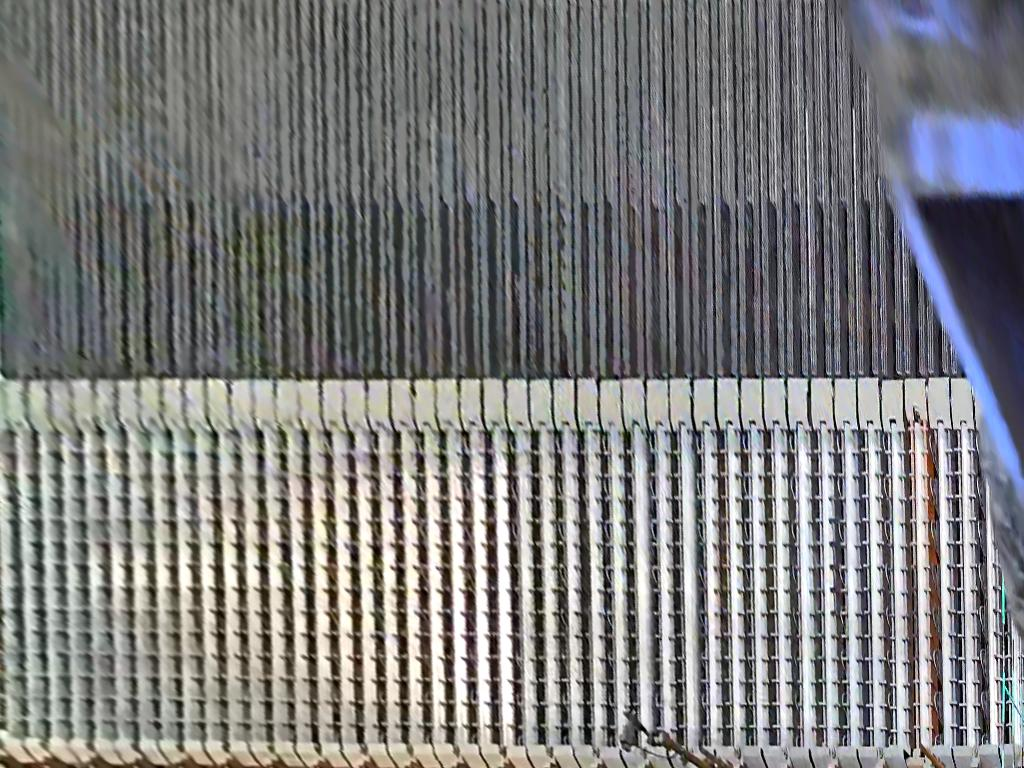cae: (839, 1, 1024, 650)
